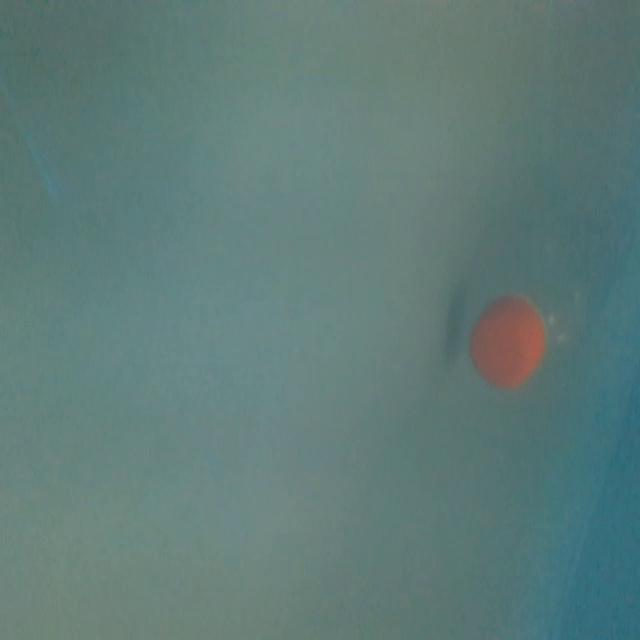plastic bottle: (458, 105, 640, 397)
